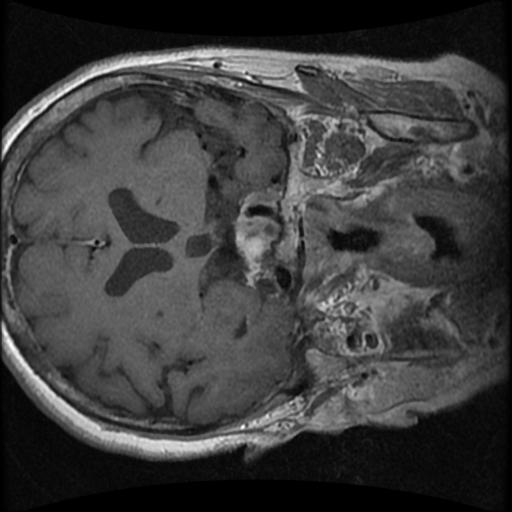pituitary tumour: (233, 215, 279, 265)
